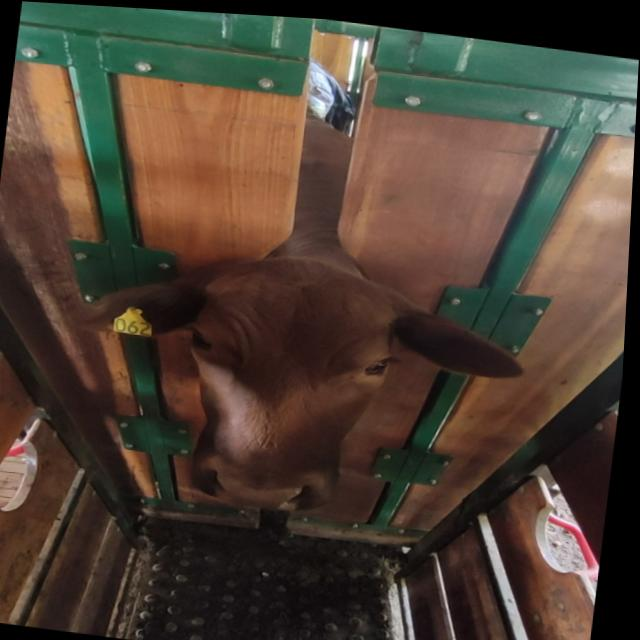cowFace: (176, 245, 411, 522)
